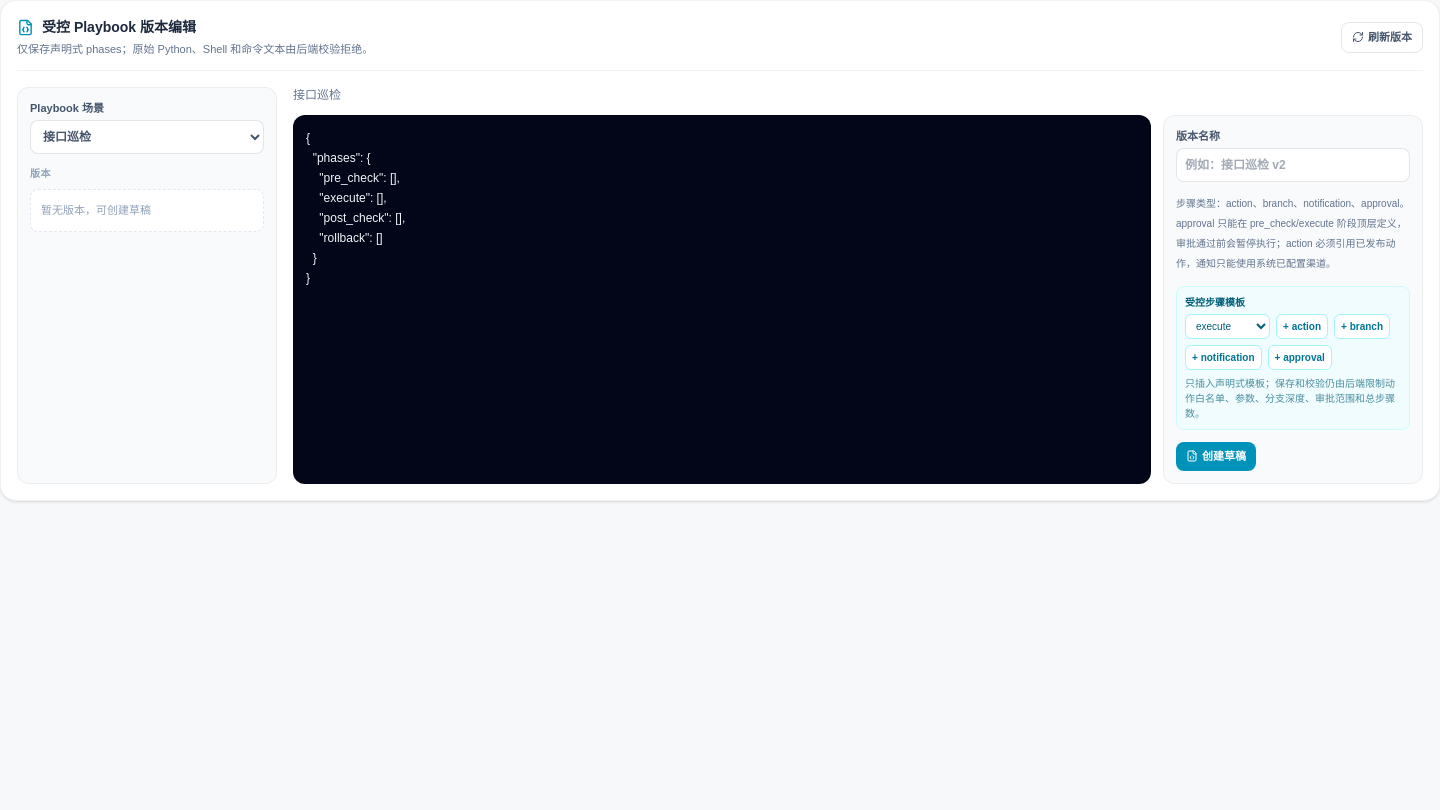
Scenario: PlaybookVersionEditor › only exposes declarative step templates and reports malformed JSON locally
The width and height of the screenshot is (1440, 810).
Expected: the text "受控 Playbook 版本编辑" is shown, [17,18,196,36]
Step 1. Click the button "+ action" → (1302, 326), box [1276,314,1328,339]
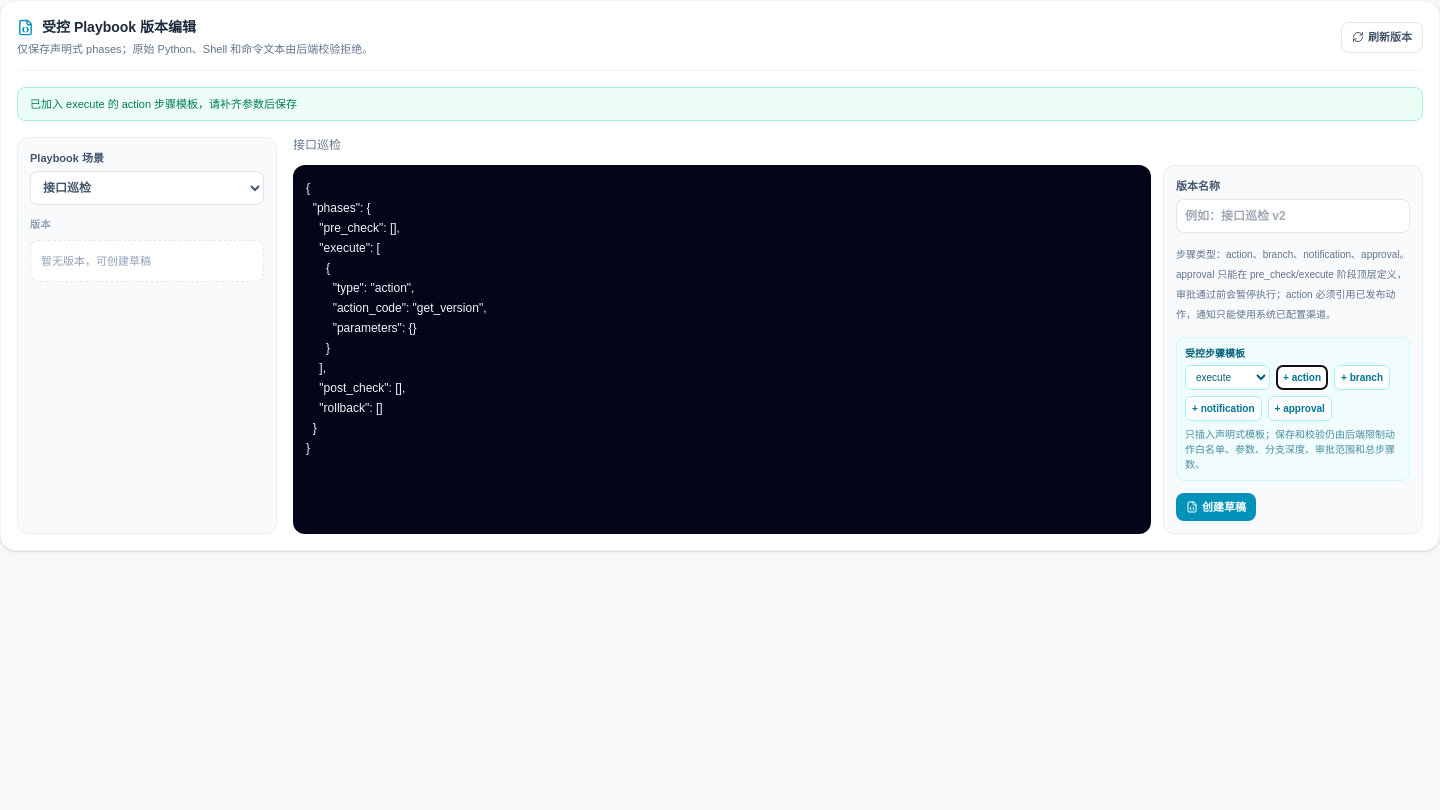
Step 2. Clear the text box named "Playbook 版本定义 JSON" → (722, 350), box [293,165,1151,534]
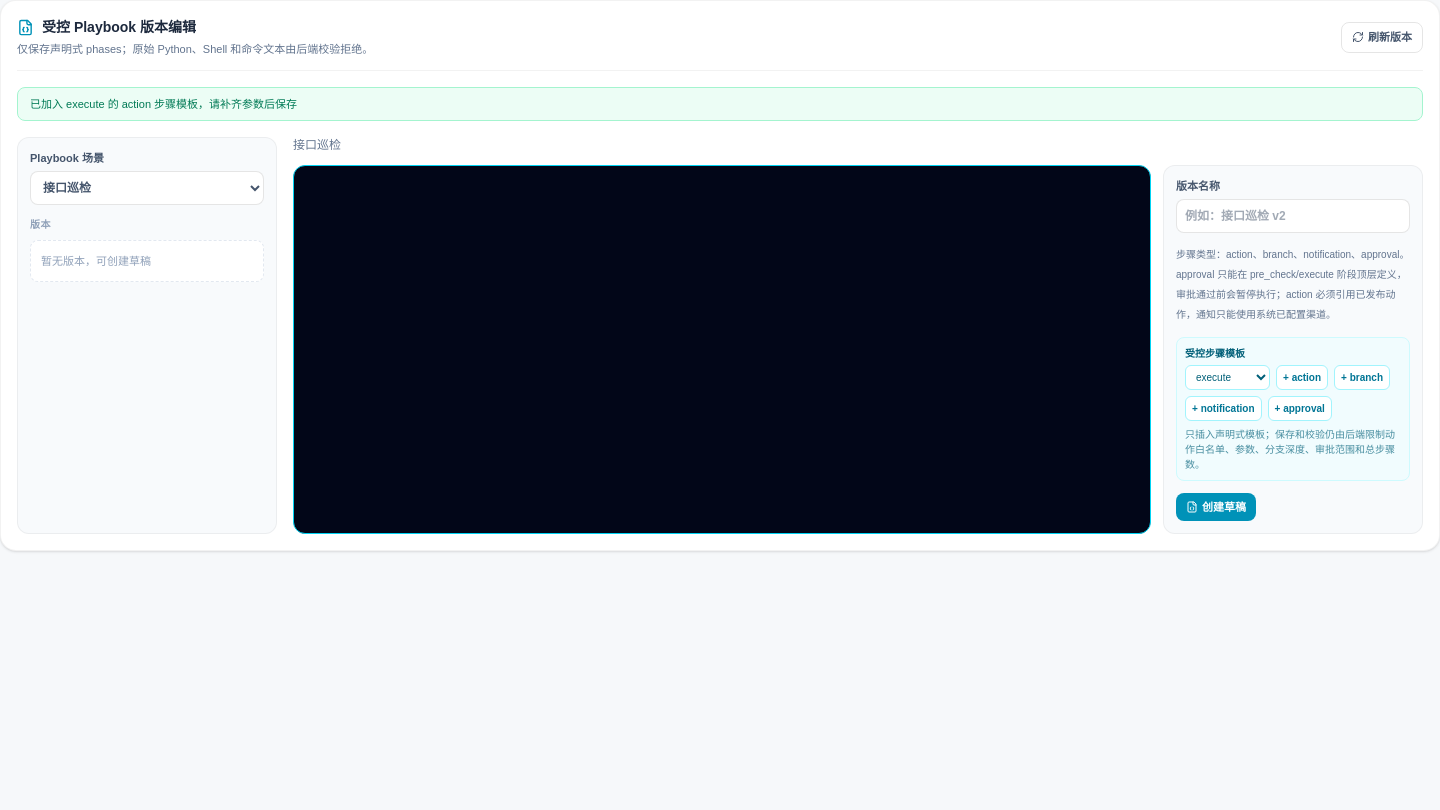
Step 3. Click the button "+ branch" → (1362, 377), box [1334,364,1390,390]
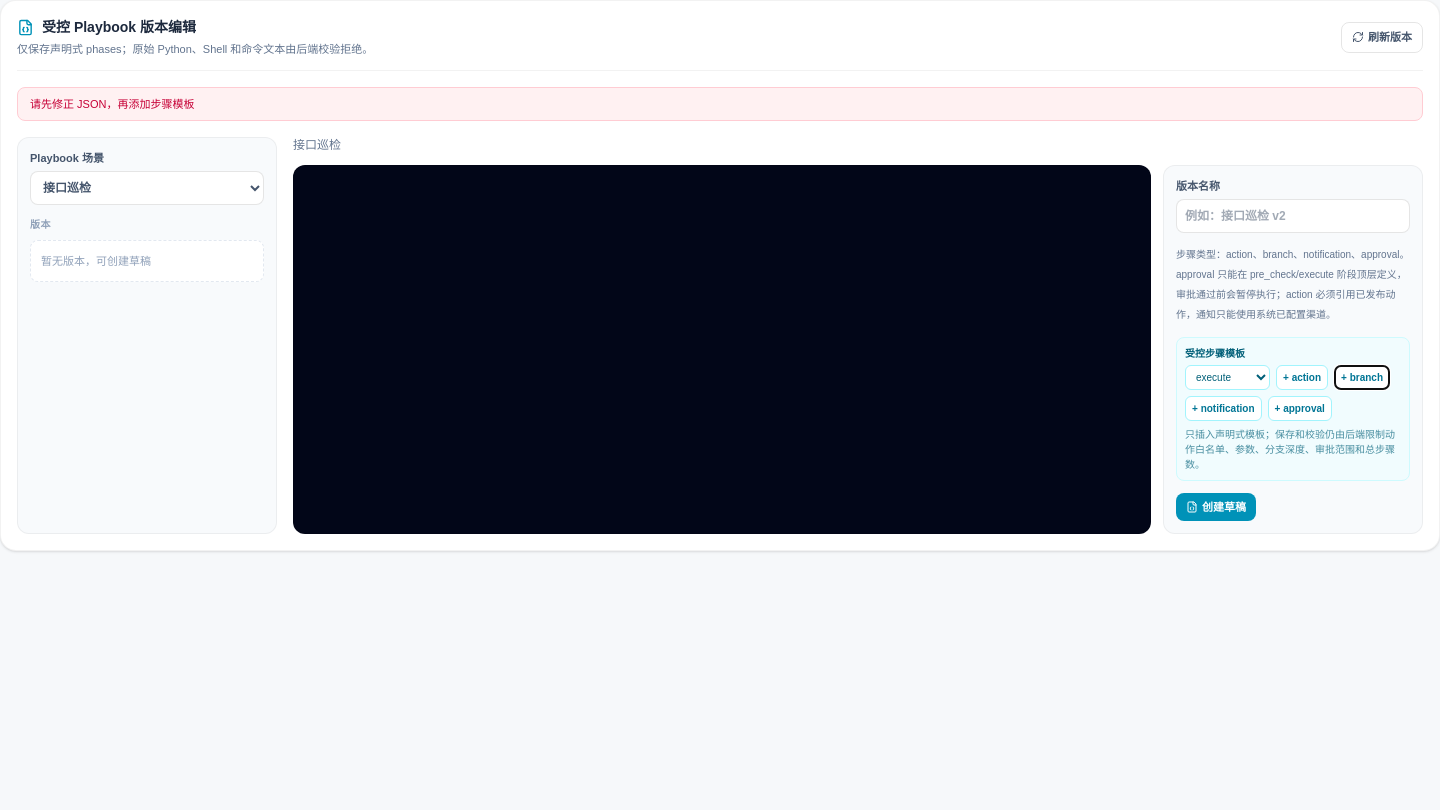
Expected: the text "请先修正 JSON，再添加步骤模板" is shown, [17,86,1423,121]
